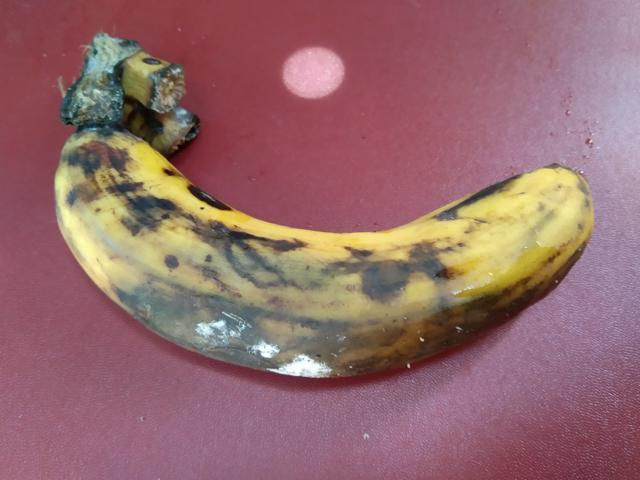rotten: (45, 128, 609, 429)
